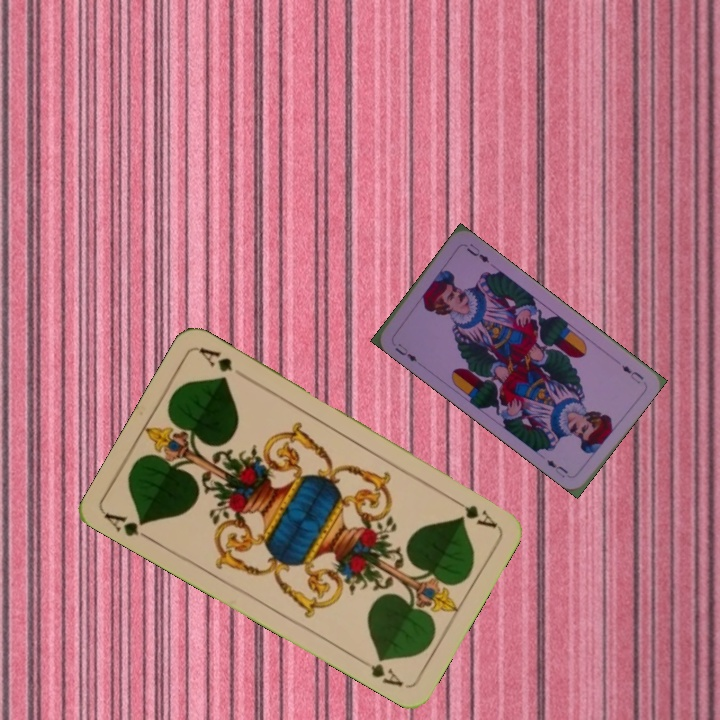EU: (617, 361, 646, 387), (391, 339, 420, 364)
GA: (446, 493, 499, 531), (101, 508, 156, 544)
